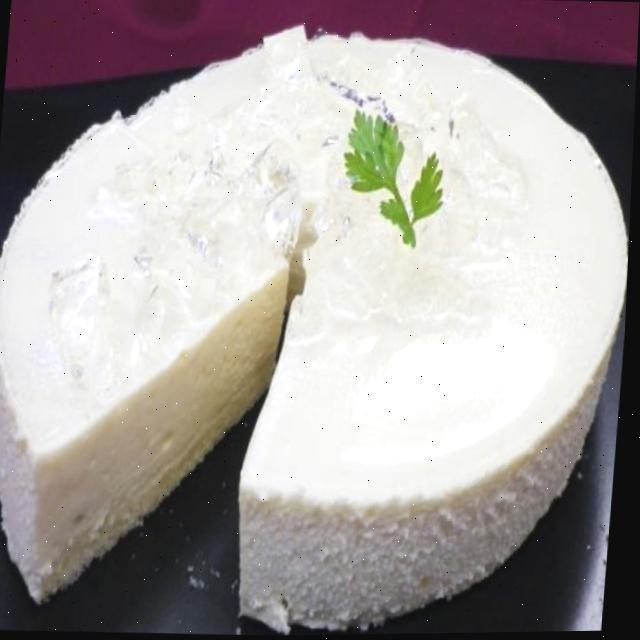面条主食: (0, 130, 583, 640)
